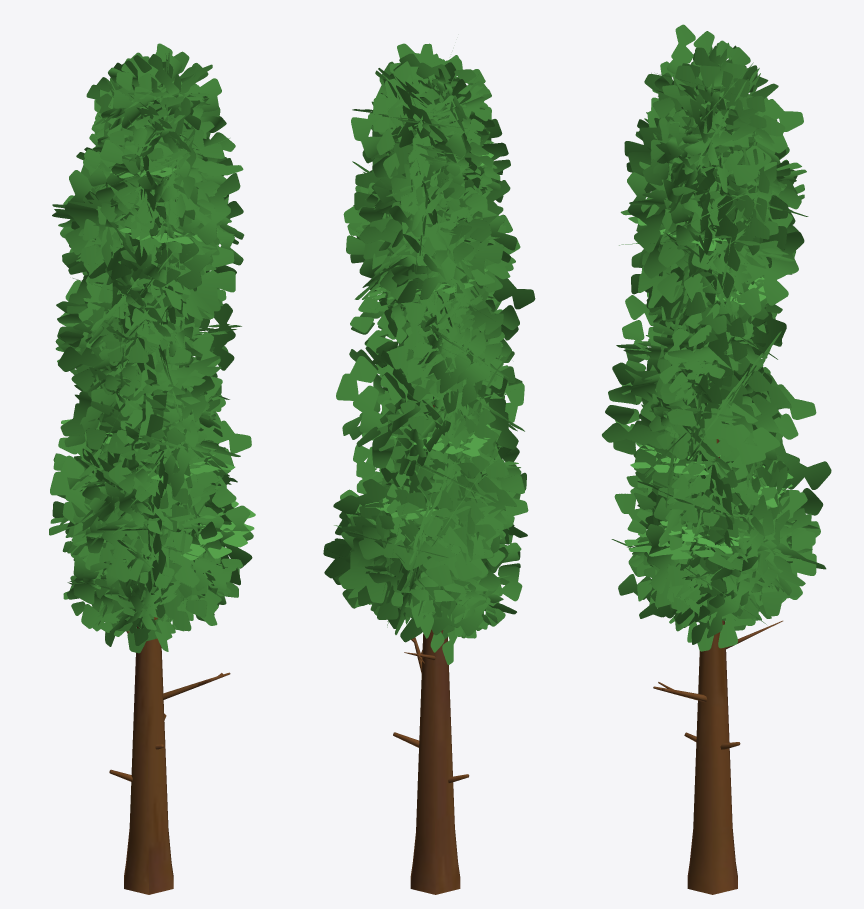
The model's file is st-columnar-4.glb.
3 views of the same model, side by side, from view 1: azimuth 30°, elevation 25°; view 2: azimuth 150°, elevation 25°; view 3: azimuth 270°, elevation 25° (orthographic).
Visible parts, largest first — view 1: STColumnar4; view 2: STColumnar4; view 3: STColumnar4.
Boxes of the visible parts, box(x1,y1,x2,y2) form: STColumnar4: box(49, 43, 255, 894); STColumnar4: box(323, 43, 535, 894); STColumnar4: box(602, 24, 831, 894).
Bounding box in the file's own units: 3.95 × 13.93 × 3.88.
Materials: 2 (2 with a texture image).
